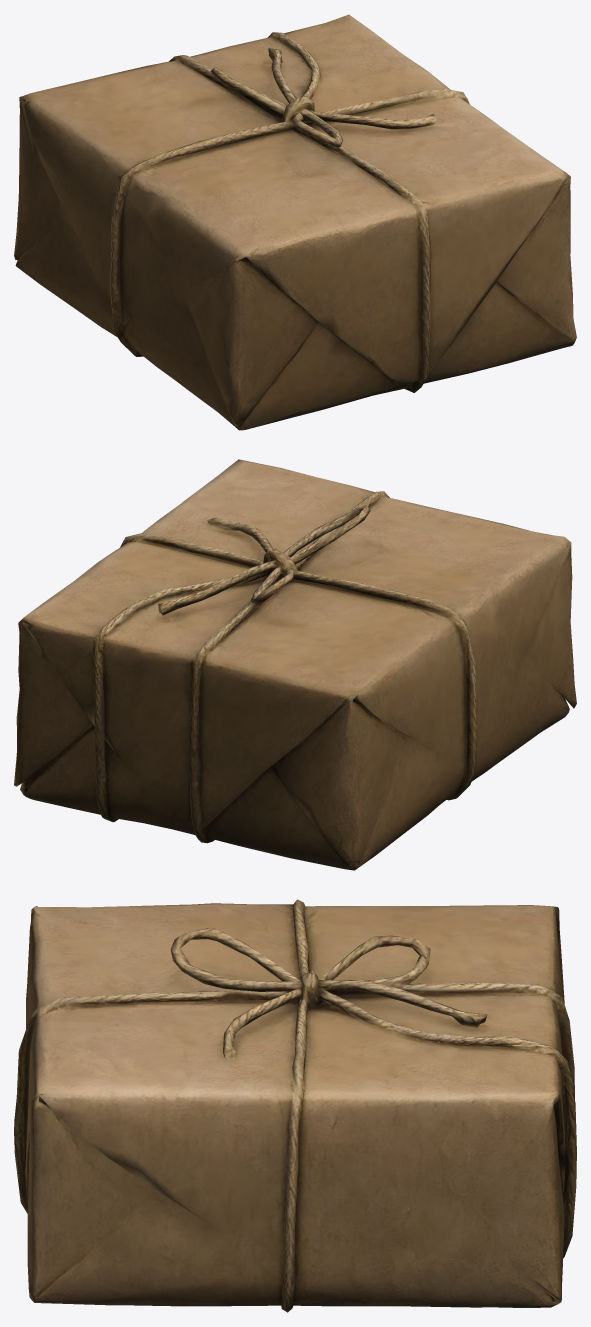
Rendered from parcel_tied_square.glb.
3 renders of one model, top to bottom at view 1: azimuth 30°, elevation 25°; view 2: azimuth 150°, elevation 25°; view 3: azimuth 270°, elevation 25°, orthographic. The views are drawn at different scales.
Visible parts, largest first — view 1: tripo_node_ae30e52c-8aee-4e18-8baf-84308497e2b8; view 2: tripo_node_ae30e52c-8aee-4e18-8baf-84308497e2b8; view 3: tripo_node_ae30e52c-8aee-4e18-8baf-84308497e2b8.
Part boxes in pixels (<box>): tripo_node_ae30e52c-8aee-4e18-8baf-84308497e2b8: <box>14,14,576,430</box>; tripo_node_ae30e52c-8aee-4e18-8baf-84308497e2b8: <box>14,459,576,870</box>; tripo_node_ae30e52c-8aee-4e18-8baf-84308497e2b8: <box>14,899,576,1312</box>.
Bounding box in the file's own units: 0.8904 × 0.5551 × 1.
1 material, 1 textured.
